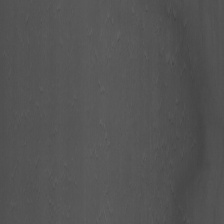silk_spot: (160, 35, 195, 151), (91, 18, 122, 64)
